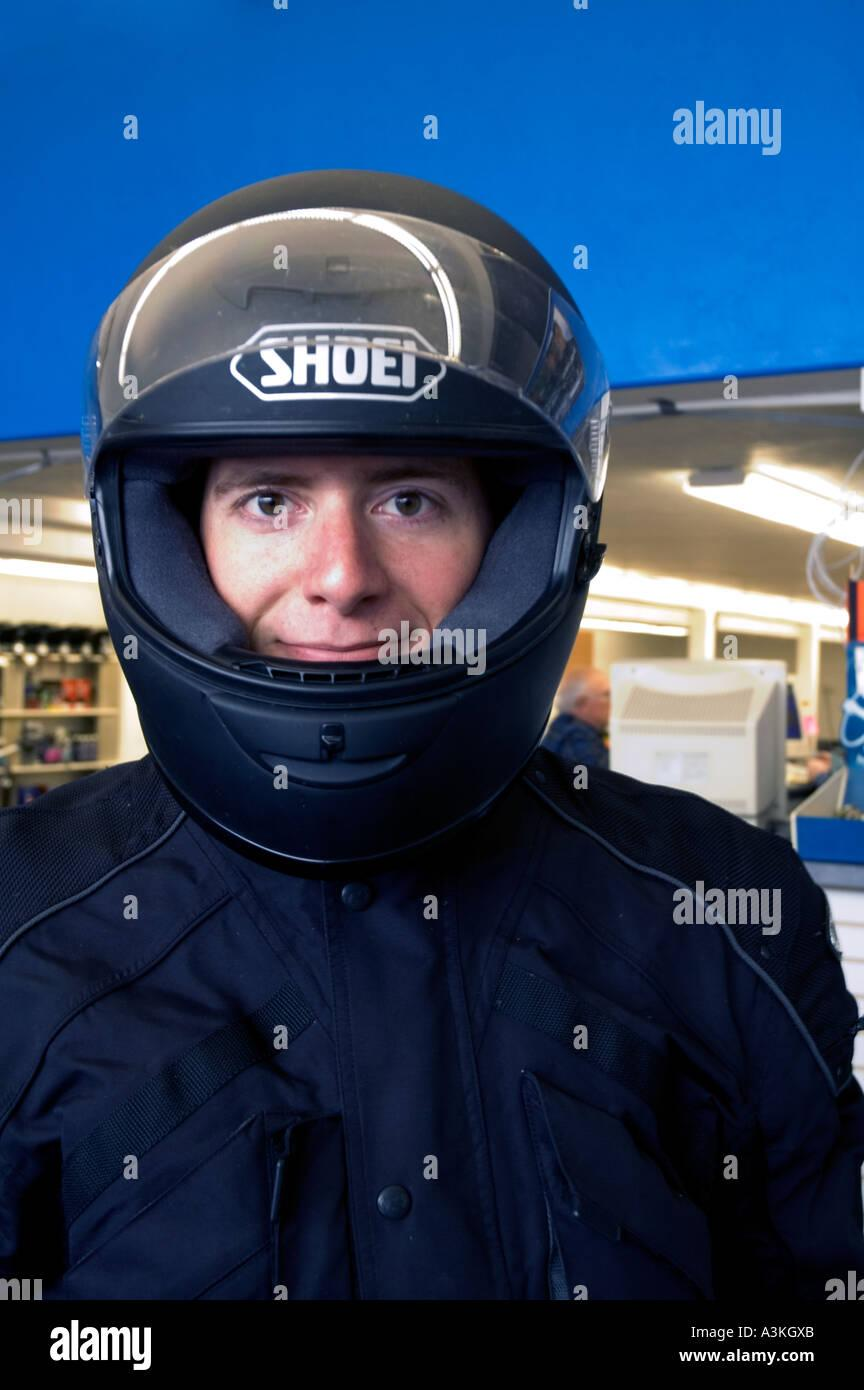Helmet: (88, 173, 608, 859)
